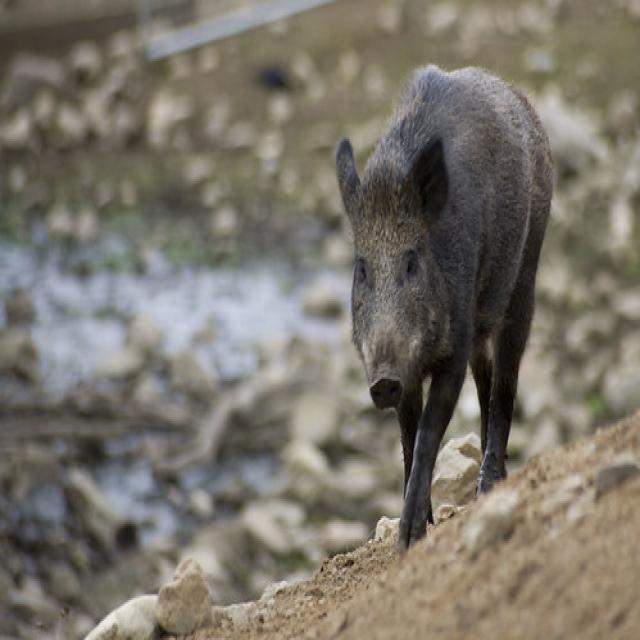boar: (326, 54, 560, 576)
